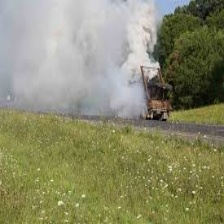smoke: (1, 1, 159, 119)
